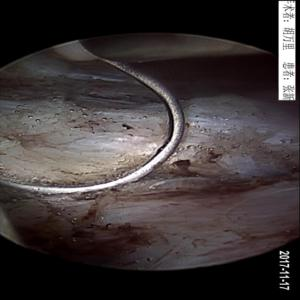film: (63, 149, 297, 246)
